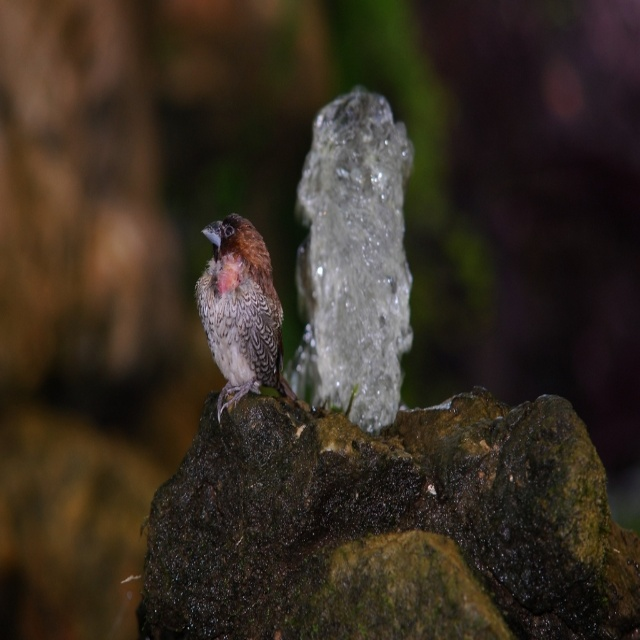Sparrow: (194, 212, 313, 421)
